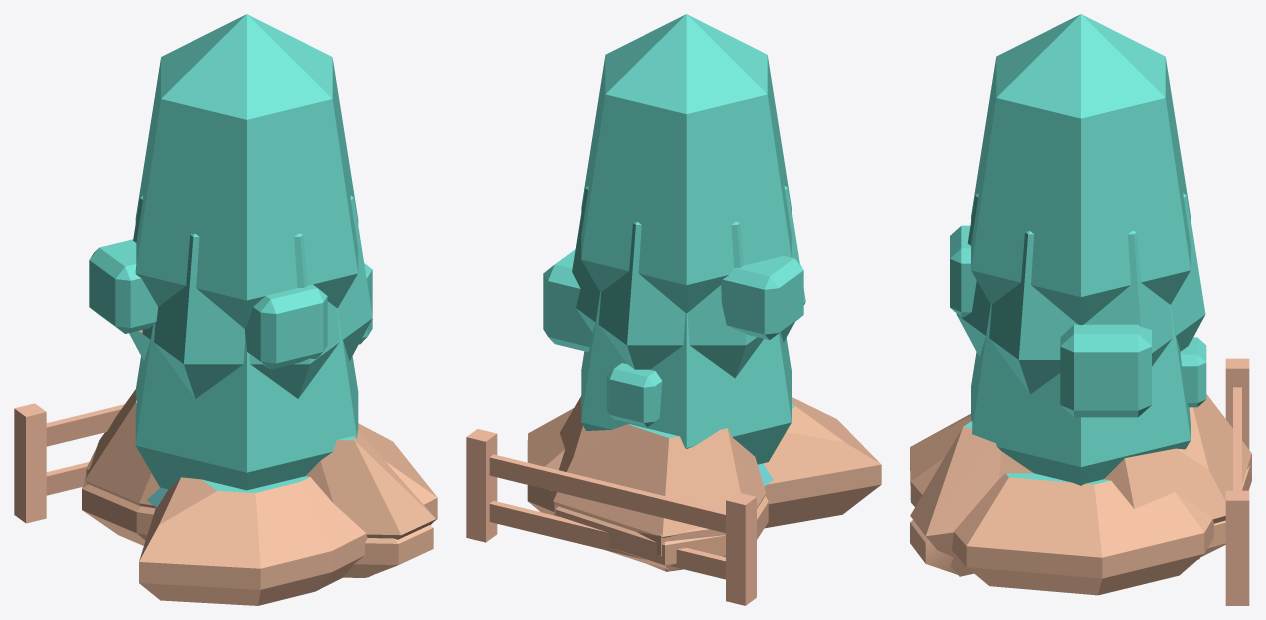
The model's file is nature.glb.
The picture shows the model from 3 angles, left to right: view 1: azimuth 30°, elevation 25°; view 2: azimuth 150°, elevation 25°; view 3: azimuth 270°, elevation 25°; orthographic projection. The views are drawn at different scales.
Visible parts, largest first — view 1: tree_default, rock_largeC, tree_fat, tree_oak, rock_largeB, tree_detailed, fence_simple, rock_largeA; view 2: tree_default, fence_simple, tree_fat, rock_largeB, rock_largeC, tree_oak, tree_detailed, rock_largeA; view 3: tree_default, rock_largeC, tree_fat, rock_largeB, tree_oak, tree_detailed, fence_simple, rock_largeA.
Part boxes in pixels (<box>): tree_default: <box>135,14,358,328</box>; rock_largeC: <box>86,423,437,605</box>; tree_fat: <box>135,308,358,490</box>; tree_oak: <box>129,195,372,398</box>; rock_largeB: <box>85,389,435,577</box>; tree_detailed: <box>89,239,372,369</box>; fence_simple: <box>14,403,124,523</box>; rock_largeA: <box>82,481,433,577</box>; tree_default: <box>581,14,791,313</box>; fence_simple: <box>466,429,756,605</box>; tree_fat: <box>581,292,791,464</box>; rock_largeB: <box>551,396,766,562</box>; rock_largeC: <box>527,397,881,571</box>; tree_oak: <box>572,185,805,378</box>; tree_detailed: <box>543,249,803,427</box>; rock_largeA: <box>553,495,768,570</box>; tree_default: <box>971,14,1190,324</box>; rock_largeC: <box>910,414,1251,595</box>; tree_fat: <box>971,304,1190,485</box>; rock_largeB: <box>910,394,1250,576</box>; tree_oak: <box>956,193,1205,394</box>; tree_detailed: <box>950,225,1206,417</box>; fence_simple: <box>1225,358,1249,605</box>; rock_largeA: <box>910,465,1251,574</box>.
Size of the model in its own units: 1.06 by 1.71 by 1.02.
